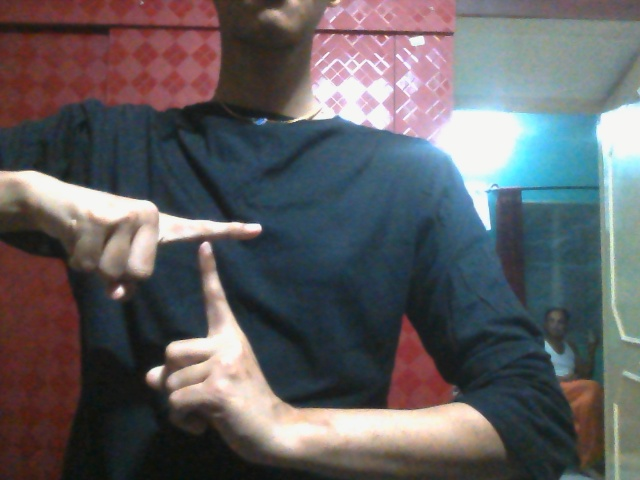T: (39, 181, 264, 457)
